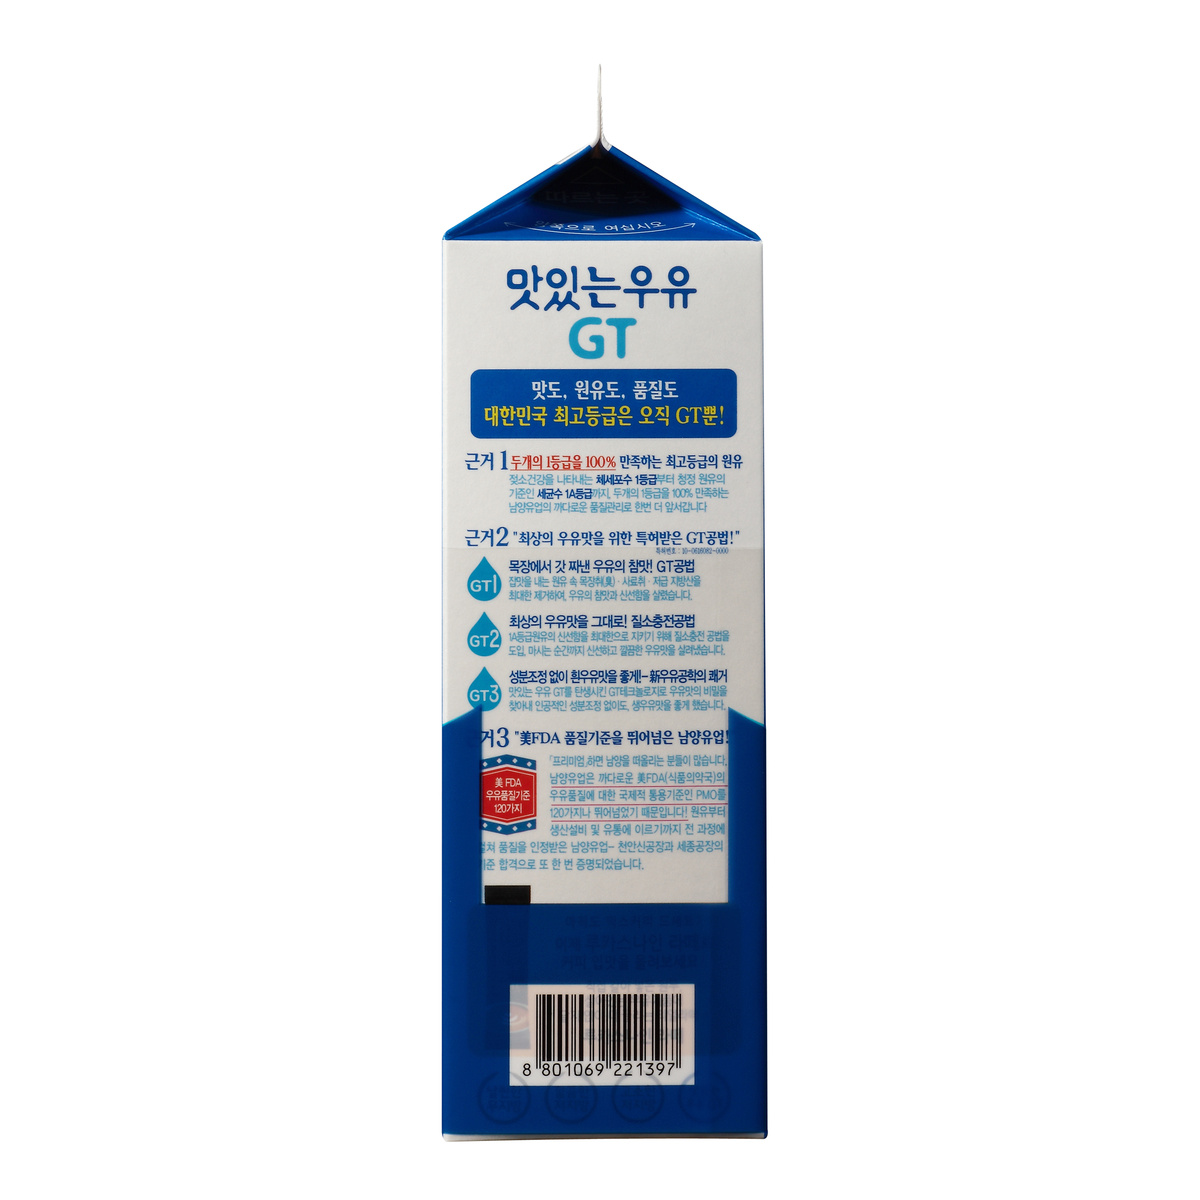milk: (437, 62, 775, 1146)
